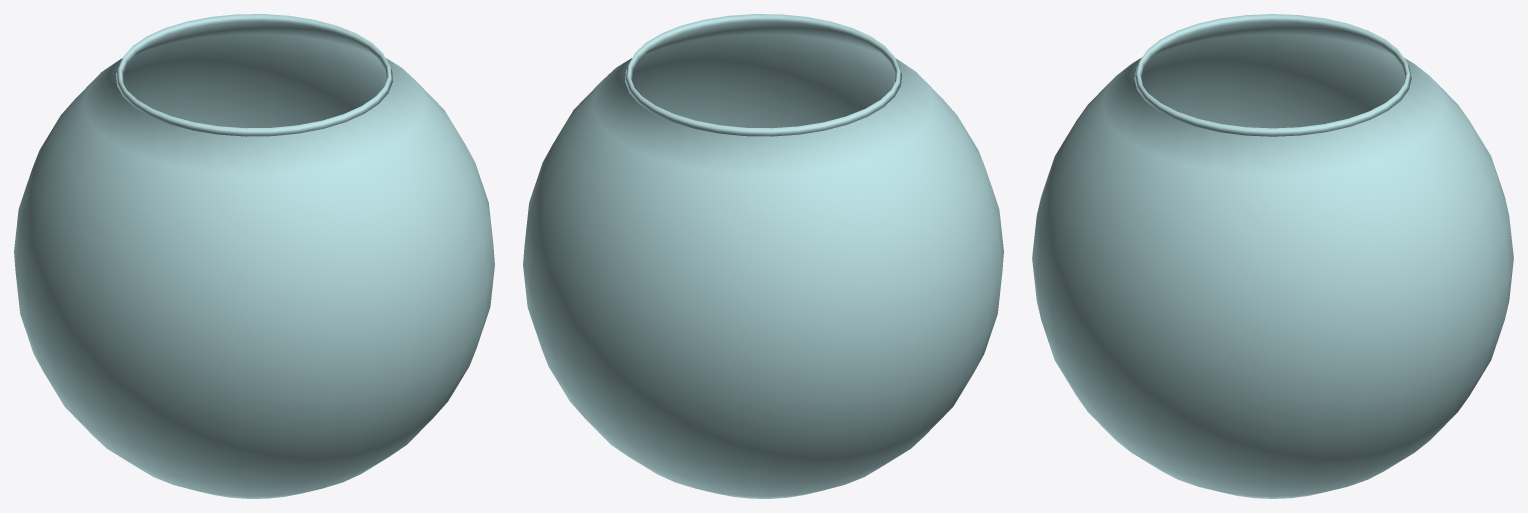
The model's file is Fishbowl.fbx.
3 views of the same model, side by side, from view 1: azimuth 30°, elevation 25°; view 2: azimuth 150°, elevation 25°; view 3: azimuth 270°, elevation 25° (orthographic).
Visible parts, largest first — view 1: Sphere; view 2: Sphere; view 3: Sphere.
Boxes of the visible parts, x1,y1,x2,y2 form: Sphere: (14,14,494,498); Sphere: (523,14,1003,498); Sphere: (1032,14,1513,498).
Size of the model in its own units: 200 by 179 by 200.
